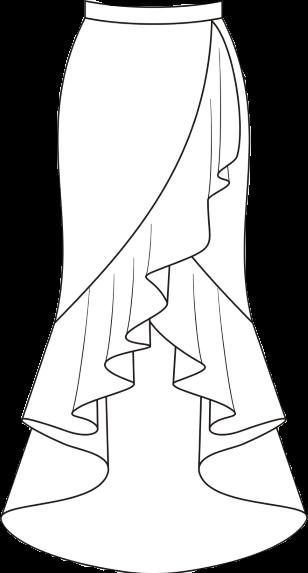Hemline: (21, 21, 246, 436), (147, 318, 289, 437)
Waistline: (52, 21, 216, 324), (192, 254, 251, 320), (83, 14, 223, 29), (84, 0, 219, 10)
